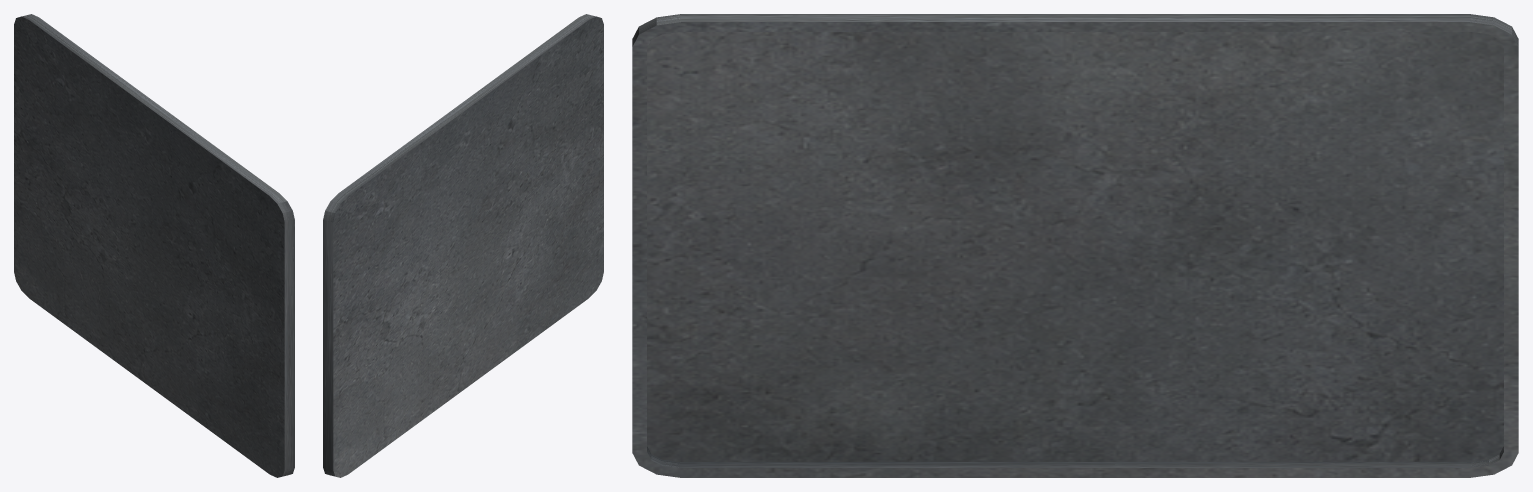
The model's file is TrueQuadro.fbx.
The picture shows the model from 3 angles, left to right: view 1: azimuth 30°, elevation 25°; view 2: azimuth 150°, elevation 25°; view 3: azimuth 270°, elevation 25°; orthographic projection. The views are drawn at different scales.
Parts seen in each view (by area): view 1: Cube; view 2: Cube; view 3: Cube.
Boxes of the visible parts, x1,y1,x2,y2 form: Cube: [14, 14, 294, 477]; Cube: [323, 14, 603, 477]; Cube: [632, 14, 1518, 477].
Size of the model in its own units: 64.68 by 1684 by 2967.
